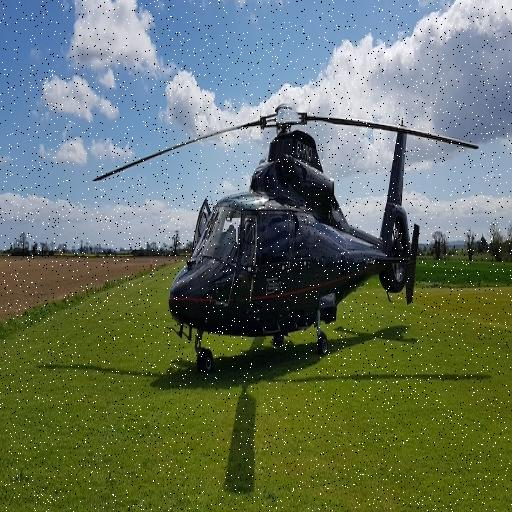helicopter: (93, 95, 485, 387)
